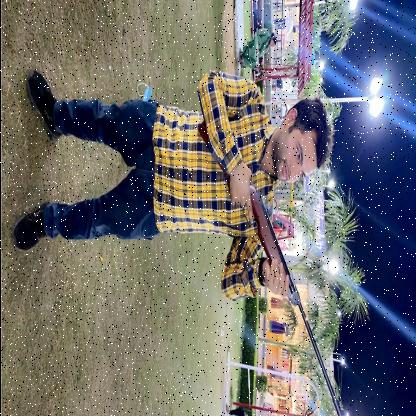rifle: (193, 105, 341, 415)
